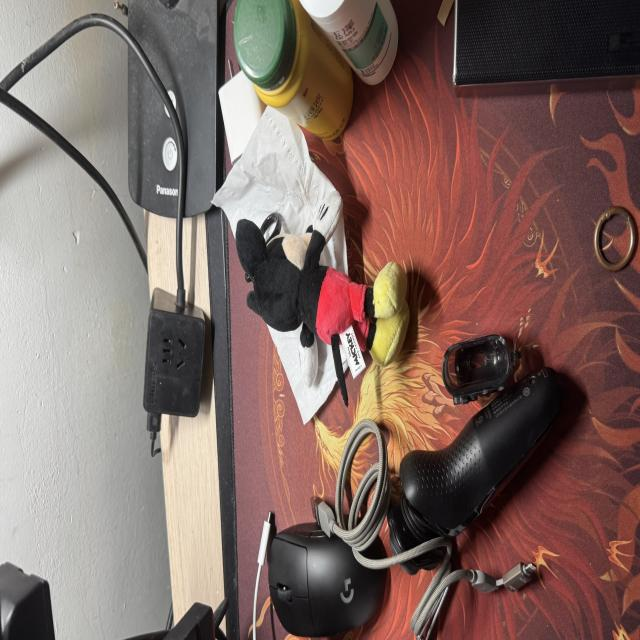mickey: (236, 193, 409, 404)
